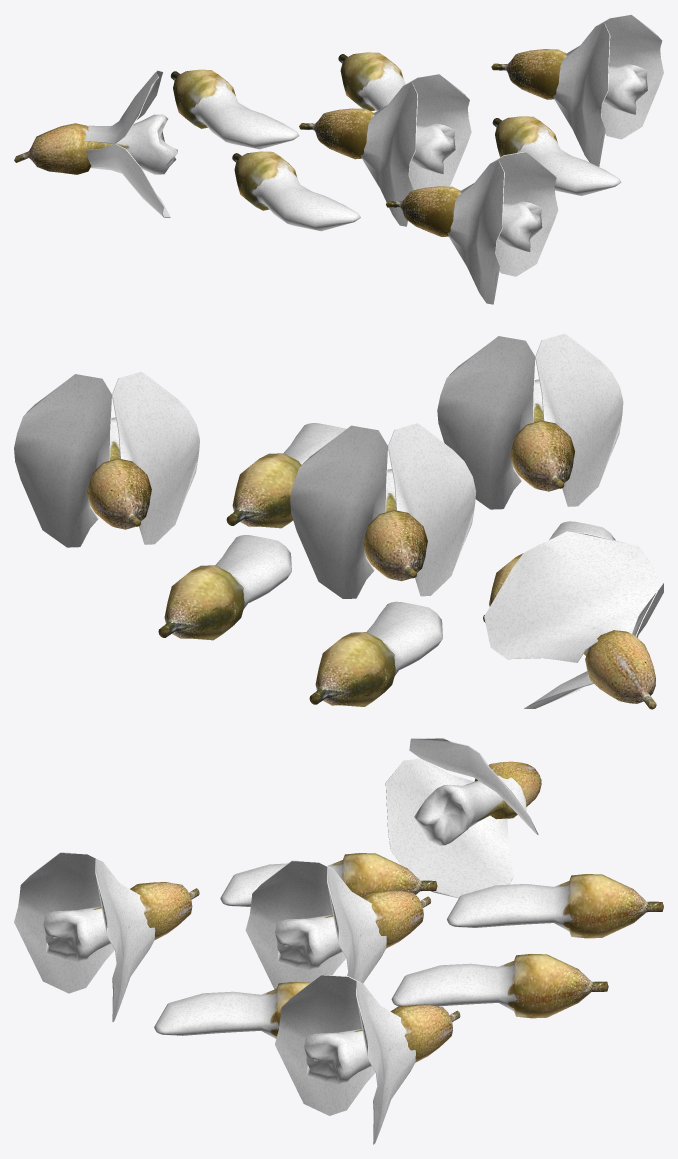
Rendered from huaihua.FBX.
3 views of the same model, one above another, from view 1: azimuth 30°, elevation 25°; view 2: azimuth 150°, elevation 25°; view 3: azimuth 270°, elevation 25° (orthographic). The views are drawn at different scales.
Visible parts, largest first — view 1: Cylinder007, Cylinder008, Cylinder002, Cylinder006, Cylinder003, Cylinder001, Cylinder005, Cylinder004; view 2: Cylinder008, Cylinder002, Cylinder007, Cylinder006, Cylinder003, Cylinder004, Cylinder005, Cylinder001; view 3: Cylinder006, Cylinder007, Cylinder008, Cylinder002, Cylinder003, Cylinder004, Cylinder005, Cylinder001.
Boxes of the visible parts, x1,y1,x2,y2 form: Cylinder007: [386, 151, 558, 304]; Cylinder008: [491, 14, 663, 166]; Cylinder002: [299, 74, 471, 226]; Cylinder006: [14, 70, 177, 217]; Cylinder003: [170, 69, 299, 149]; Cylinder001: [232, 151, 360, 231]; Cylinder005: [492, 116, 621, 195]; Cylinder004: [338, 52, 405, 111]; Cylinder008: [14, 371, 199, 547]; Cylinder002: [290, 423, 476, 598]; Cylinder007: [437, 333, 623, 509]; Cylinder006: [484, 531, 663, 709]; Cylinder003: [309, 601, 442, 706]; Cylinder004: [158, 535, 291, 640]; Cylinder005: [226, 423, 346, 528]; Cylinder001: [483, 521, 615, 622]; Cylinder006: [385, 738, 541, 898]; Cylinder007: [14, 852, 199, 1021]; Cylinder008: [275, 974, 460, 1144]; Cylinder002: [245, 860, 431, 989]; Cylinder003: [447, 874, 663, 938]; Cylinder004: [391, 953, 608, 1018]; Cylinder005: [154, 981, 310, 1038]; Cylinder001: [220, 853, 437, 906].
Size of the model in its own units: 198 by 46.68 by 169.
